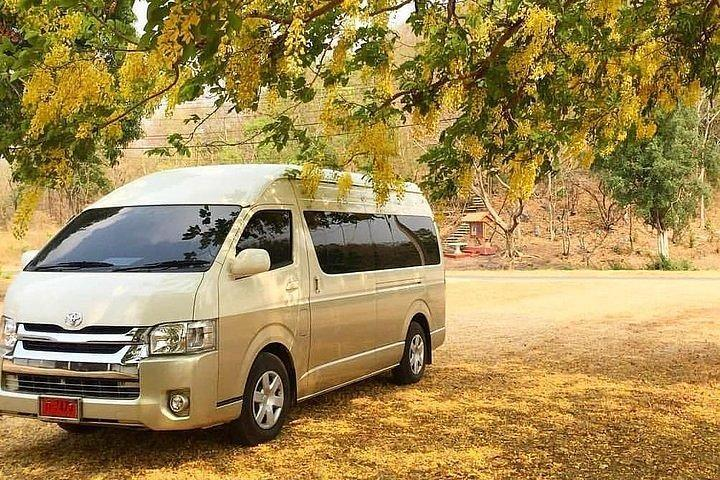car: (0, 162, 443, 438)
